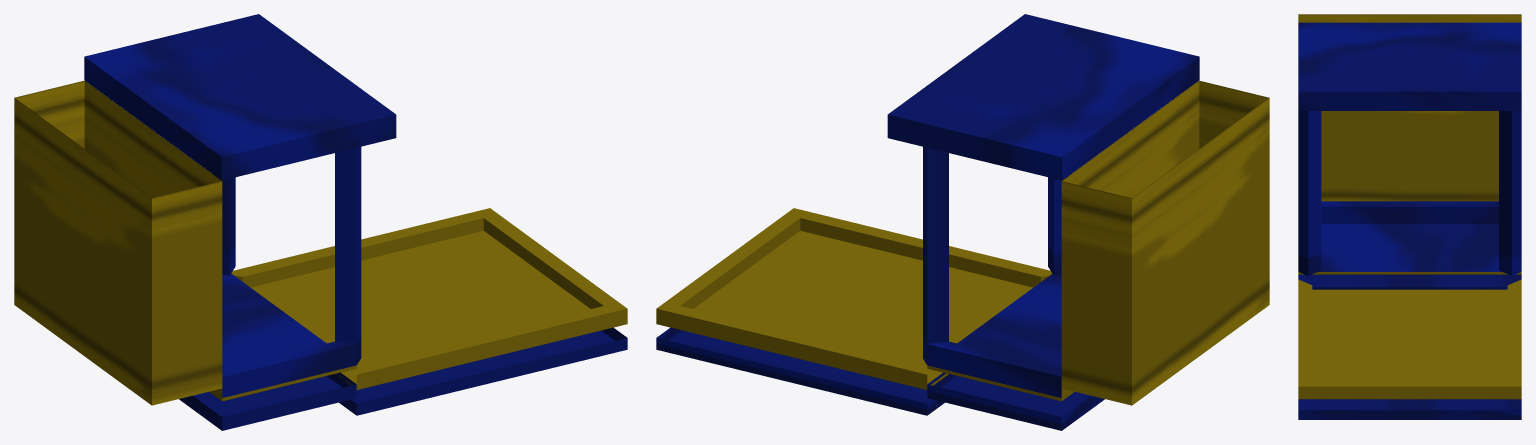
File: CleaningCart.fbx
The picture shows the model from 3 angles, left to right: view 1: azimuth 30°, elevation 25°; view 2: azimuth 150°, elevation 25°; view 3: azimuth 270°, elevation 25°; orthographic projection. The views are drawn at different scales.
Visible parts, largest first — view 1: Cube; view 2: Cube; view 3: Cube.
Boxes of the visible parts, <box> form: Cube: <box>14,14,627,430</box>; Cube: <box>656,14,1269,430</box>; Cube: <box>1298,14,1521,419</box>.
Bounding box in the file's own units: 556 × 363 × 278.
1 material, 1 textured.
